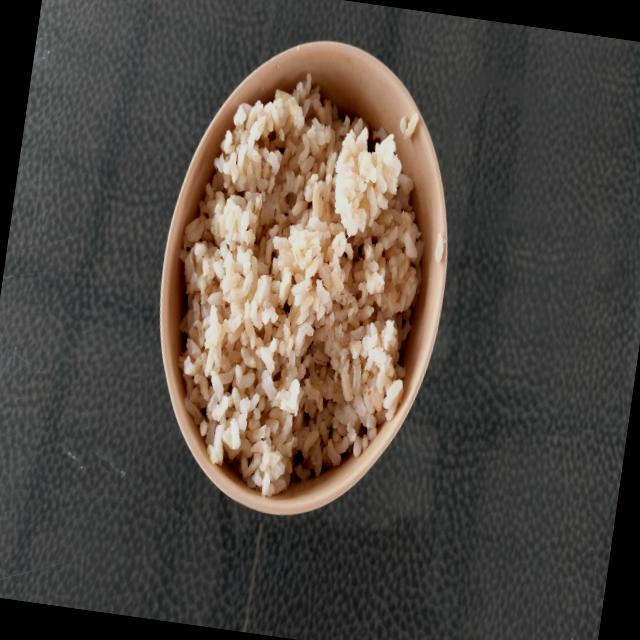brown-rice: (181, 76, 422, 498)
